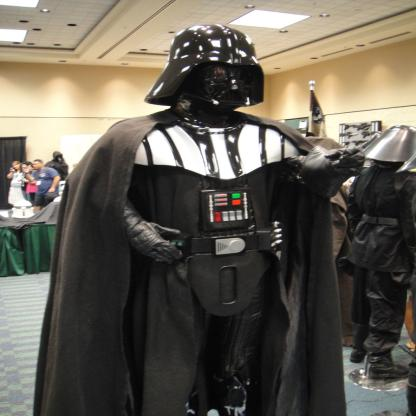Helmet: (147, 30, 269, 118)
